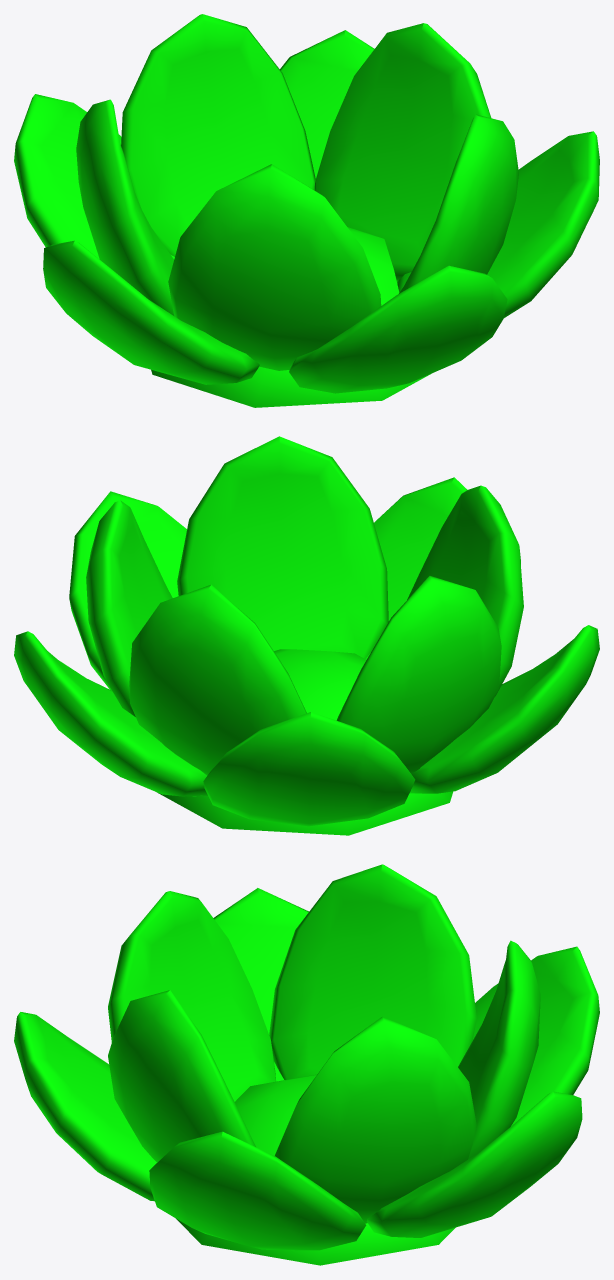
The model's file is Lotus_1.fbx.
3 renders of one model, top to bottom at view 1: azimuth 30°, elevation 25°; view 2: azimuth 150°, elevation 25°; view 3: azimuth 270°, elevation 25°, orthographic.
Parts seen in each view (by area): view 1: Lotus_1; view 2: Lotus_1; view 3: Lotus_1.
Part boxes in pixels (bbox=[...]): Lotus_1: bbox=[14, 14, 599, 407]; Lotus_1: bbox=[14, 436, 599, 835]; Lotus_1: bbox=[14, 864, 599, 1265].
Bounding box in the file's own units: 73.87 × 34.81 × 72.72.
